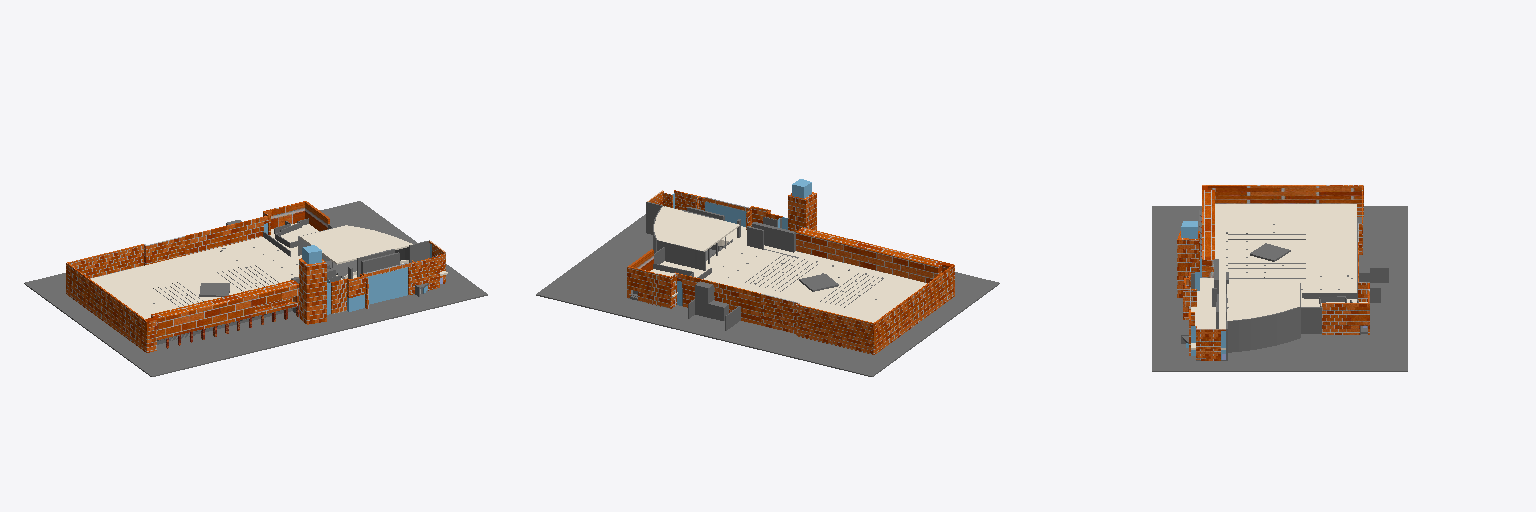
3 views of the same model, side by side, from view 1: azimuth 30°, elevation 25°; view 2: azimuth 150°, elevation 25°; view 3: azimuth 270°, elevation 25° (orthographic).
Parts seen in each view (by area): view 1: CAW_obj ground_grp floor, CAW_obj Cilling_1 pPlane65, CAW_obj wall_1 pPlane1, CAW_obj pPlane9 wall_3, CAW_obj Cilling_1 pPlane76, CAW_obj pCube9 wall_1, CAW_obj wall_3 pCube47, CAW_obj wall_3 pCube46, CAW_obj pCube120 wall_4, CAW_obj doors_glasses glass1 pCube70, CAW_obj wall_3 pCube139, CAW_obj wall_2 pCube133; view 2: CAW_obj ground_grp floor, CAW_obj Cilling_1 pPlane65, CAW_obj wall_1 pPlane1, CAW_obj pPlane9 wall_3, CAW_obj wall_3 pCube46, CAW_obj Cilling_1 pPlane76, CAW_obj wall_3 pCube47, CAW_obj pCube120 wall_4, CAW_obj wall_3 pCube139, CAW_obj pCube9 wall_1, CAW_obj wall_3 pCube117, CAW_obj interior_wall pCube81 (+1 smaller); view 3: CAW_obj ground_grp floor, CAW_obj Cilling_1 pPlane65, CAW_obj pPlane9 wall_3, CAW_obj wall_4 pCube65, CAW_obj Cilling_1 pPlane76, CAW_obj pCube120 wall_4, CAW_obj Cilling_1 pPlane79, CAW_obj wall_1 pPlane1, CAW_obj pCube9 wall_1, CAW_obj wall_2 pCube140, CAW_obj wall_4 pCube126.
Part boxes in pixels (x1,y1,x2,y2): CAW_obj ground_grp floor: (24,201,487,376); CAW_obj Cilling_1 pPlane65: (91,237,301,318); CAW_obj wall_1 pPlane1: (151,280,298,339); CAW_obj pPlane9 wall_3: (66,262,156,352); CAW_obj Cilling_1 pPlane76: (300,225,412,264); CAW_obj pCube9 wall_1: (299,258,326,324); CAW_obj wall_3 pCube47: (185,216,268,255); CAW_obj wall_3 pCube46: (68,244,143,278); CAW_obj pCube120 wall_4: (264,201,329,230); CAW_obj doors_glasses glass1 pCube70: (367,267,407,304); CAW_obj wall_3 pCube139: (144,236,184,265); CAW_obj wall_2 pCube133: (408,259,427,294); CAW_obj ground_grp floor: (536,214,999,376); CAW_obj Cilling_1 pPlane65: (695,239,926,322); CAW_obj wall_1 pPlane1: (796,227,943,282); CAW_obj pPlane9 wall_3: (873,262,954,354); CAW_obj wall_3 pCube46: (796,304,872,354); CAW_obj Cilling_1 pPlane76: (654,206,739,251); CAW_obj wall_3 pCube47: (677,273,760,324); CAW_obj pCube120 wall_4: (627,249,669,308); CAW_obj wall_3 pCube139: (761,294,799,333); CAW_obj pCube9 wall_1: (788,192,816,231); CAW_obj wall_3 pCube117: (695,281,728,320); CAW_obj interior_wall pCube81: (752,222,795,252); CAW_obj ground_grp floor: (1152,206,1407,371); CAW_obj Cilling_1 pPlane65: (1215,204,1356,301); CAW_obj pPlane9 wall_3: (1202,185,1363,216); CAW_obj wall_4 pCube65: (1228,306,1300,352); CAW_obj Cilling_1 pPlane76: (1227,284,1299,320); CAW_obj pCube120 wall_4: (1322,283,1369,334); CAW_obj Cilling_1 pPlane79: (1191,278,1225,349); CAW_obj wall_1 pPlane1: (1202,190,1214,277); CAW_obj pCube9 wall_1: (1177,231,1199,297); CAW_obj wall_2 pCube140: (1196,326,1225,360); CAW_obj wall_4 pCube126: (1301,307,1321,333).
Bounding box in the file's own units: 4396 × 931 × 2893.
11 materials, 2 textured.